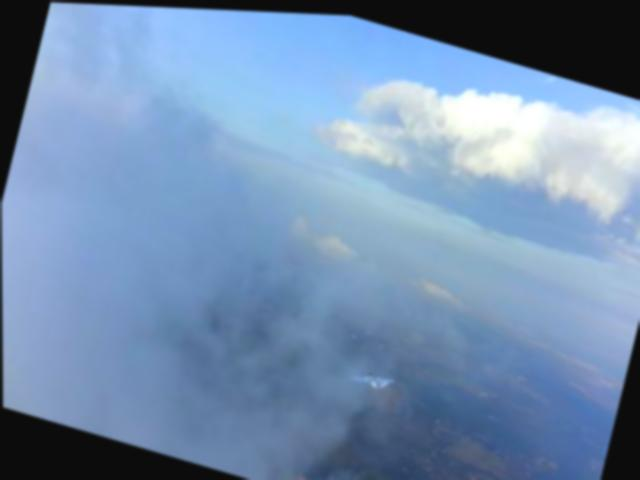uav: (346, 360, 396, 393)
